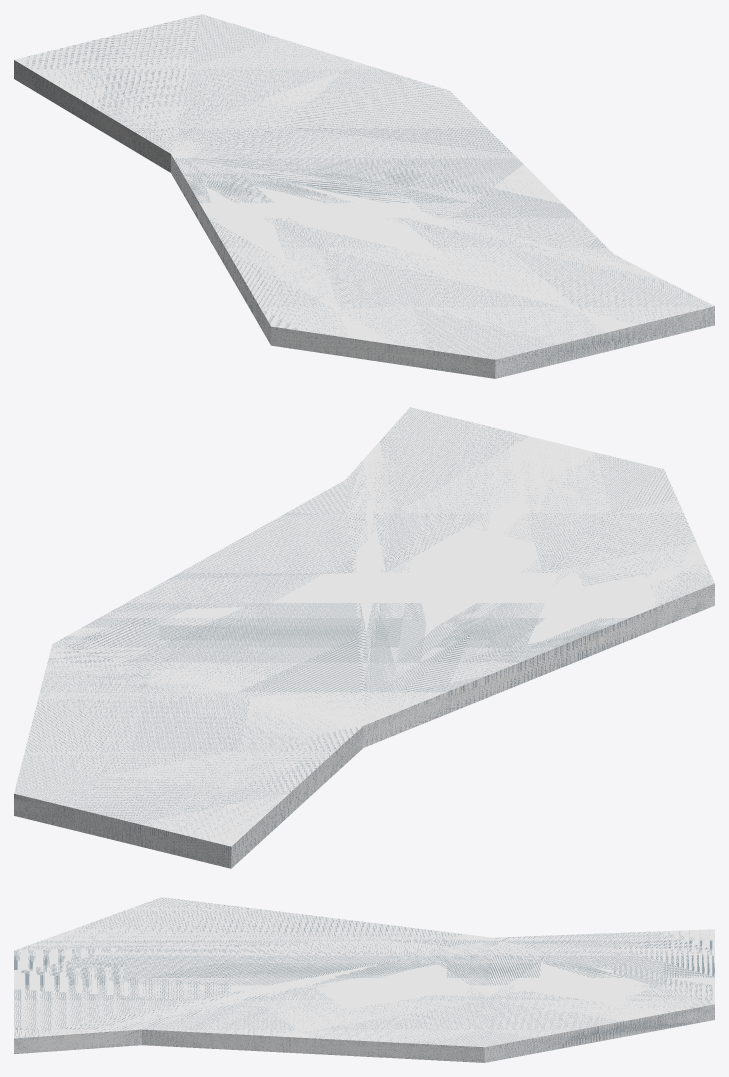
File: ScenarioBaseConstitucio.dae
3 views of the same model, one above another, from view 1: azimuth 30°, elevation 25°; view 2: azimuth 150°, elevation 25°; view 3: azimuth 270°, elevation 25° (orthographic). The views are drawn at different scales.
Parts seen in each view (by area): view 1: SketchUp; view 2: SketchUp; view 3: SketchUp.
Boxes of the visible parts, x1=… form: SketchUp: x1=14, y1=14, x2=714, y2=378; SketchUp: x1=14, y1=407, x2=714, y2=868; SketchUp: x1=14, y1=897, x2=714, y2=1062.
Size of the model in its own units: 40.41 by 79.69 by 1.97.
